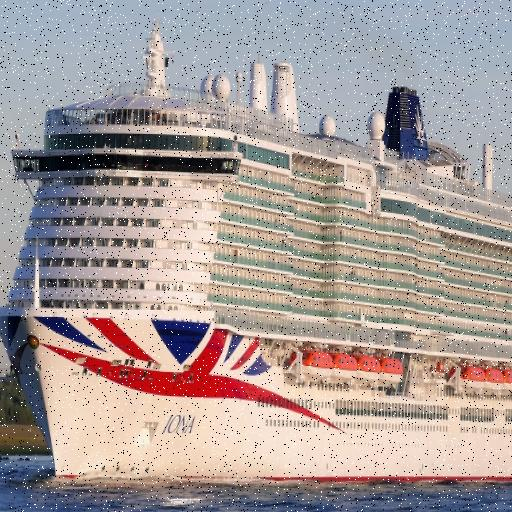cruises: (1, 11, 512, 502)
